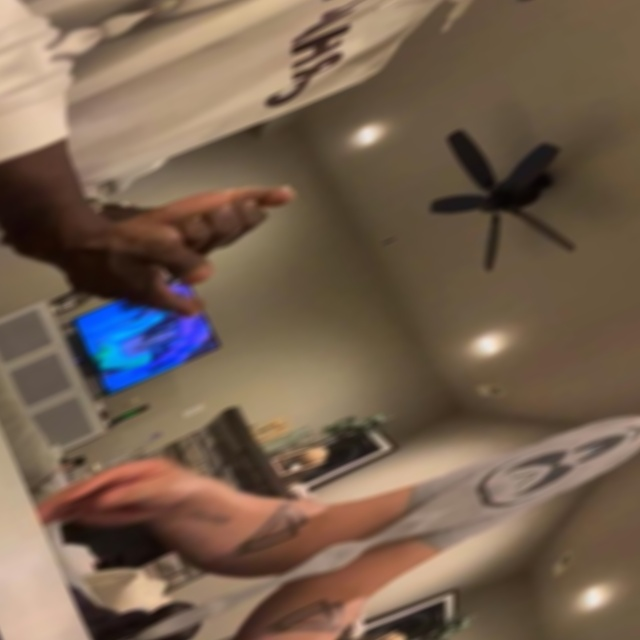Rock: (124, 156, 305, 279)
